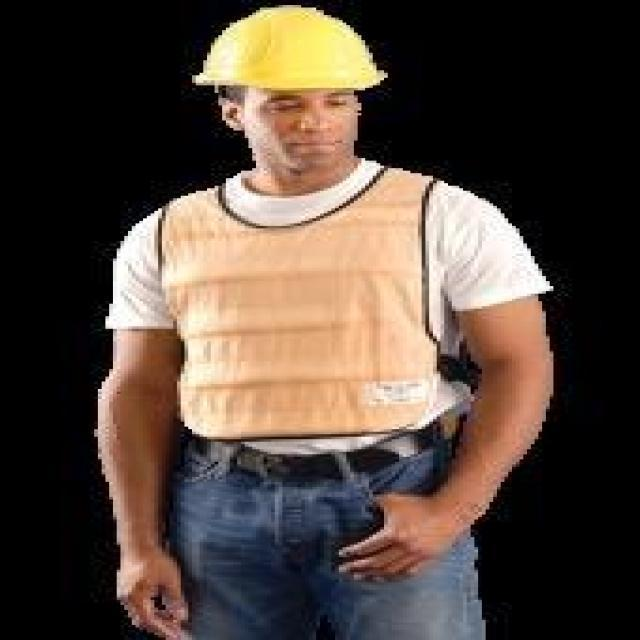helmet: (190, 1, 394, 99)
vest: (152, 163, 460, 444)
